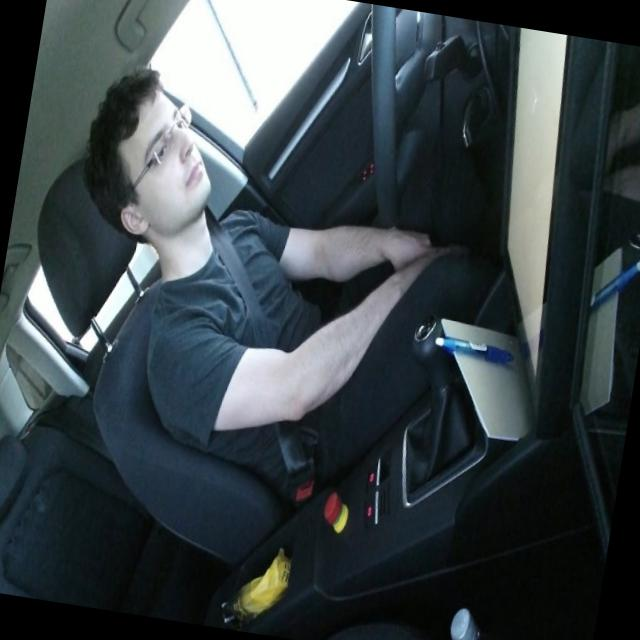pen: (433, 332, 516, 366)
